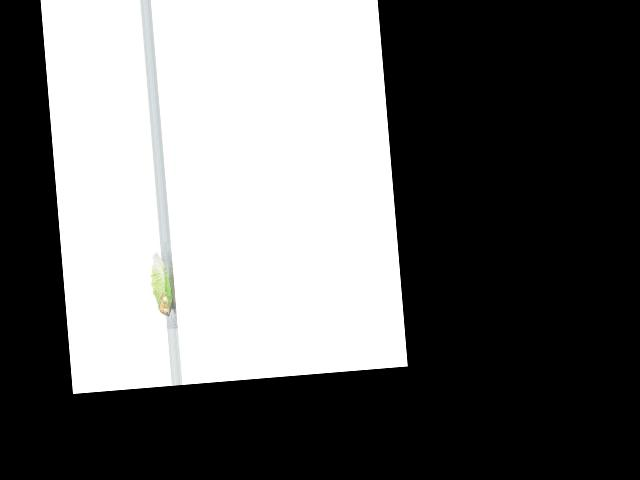lettuce: (146, 250, 177, 320)
